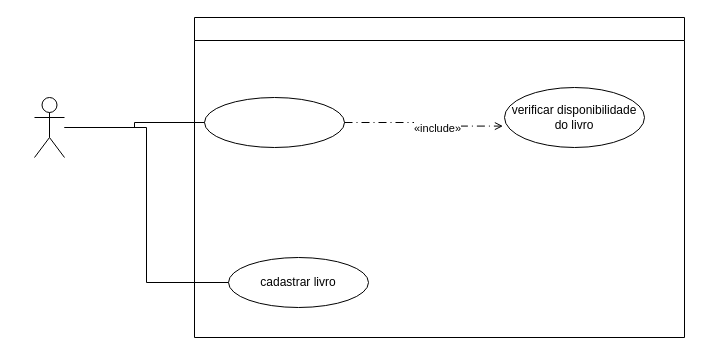
Image size: 702x355. Some labels were removed from this diagram. Each missing label, with the centre of its shape:
Bibliotecario: the point at 49,127
Reservar livro: the point at 274,122
